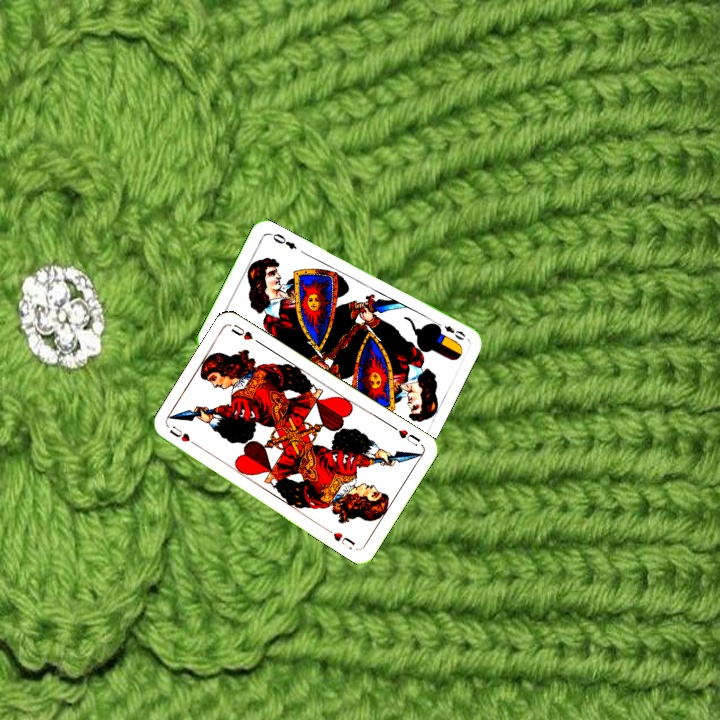EO: (431, 317, 468, 343)
HU: (165, 422, 201, 450), (388, 422, 423, 449)
